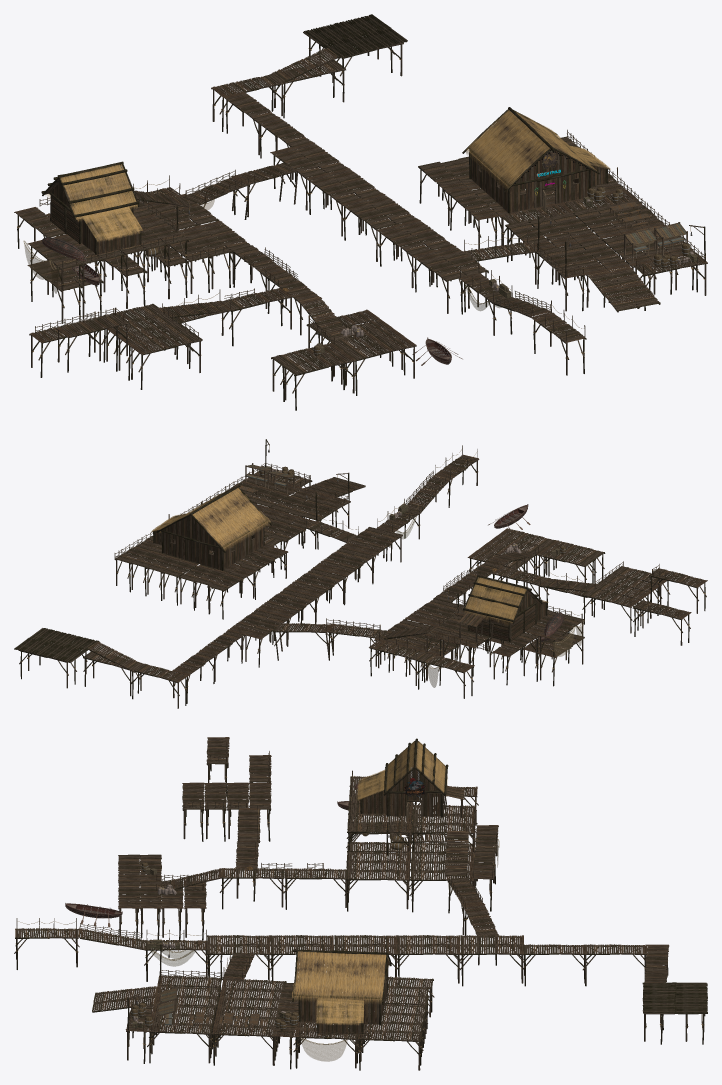
Rendered from village.glb.
3 views of the same model, one above another, from view 1: azimuth 30°, elevation 25°; view 2: azimuth 150°, elevation 25°; view 3: azimuth 270°, elevation 25° (orthographic). The views are drawn at different scales.
Parts seen in each view (by area): view 1: Village_MI_Wood_Kit.002, Village_MI_hay.002, Village_MI_Fence.002, Village_MI_hay_tile.002, Village_MI_boat.002, Village_MI_market_stand.002, Village_MI_net_Wind.002, Village_MI_Barrel.002, Village_MI_Rope_01.002, Village_MI_table_props.002; view 2: Village_MI_Wood_Kit.002, Village_MI_hay.002, Village_MI_Fence.002, Village_MI_hay_tile.002, Village_MI_net_Wind.002, Village_MI_boat.002, Village_MI_Rope_01.002, Village_MI_market_stand.002; view 3: Village_MI_Wood_Kit.002, Village_MI_hay.002, Village_MI_Fence.002, Village_MI_hay_tile.002, Village_MI_net_Wind.002, Village_MI_Barrel.002, Village_MI_boat.002, Village_MI_table_props.002, Village_MI_Rope_01.002, Village_MI_market_stand.002.
Part boxes in pixels (left/top/right/bottom): Village_MI_Wood_Kit.002: left=14, top=14, right=707, bottom=410; Village_MI_hay.002: left=47, top=111, right=610, bottom=241; Village_MI_Fence.002: left=35, top=129, right=705, bottom=344; Village_MI_hay_tile.002: left=61, top=110, right=584, bottom=219; Village_MI_boat.002: left=42, top=237, right=451, bottom=364; Village_MI_market_stand.002: left=624, top=222, right=687, bottom=261; Village_MI_net_Wind.002: left=23, top=199, right=654, bottom=310; Village_MI_Barrel.002: left=118, top=186, right=690, bottom=355; Village_MI_Rope_01.002: left=17, top=48, right=705, bottom=389; Village_MI_table_props.002: left=609, top=202, right=661, bottom=241; Village_MI_Wood_Kit.002: left=14, top=439, right=707, bottom=708; Village_MI_hay.002: left=151, top=492, right=548, bottom=625; Village_MI_Fence.002: left=114, top=463, right=678, bottom=663; Village_MI_hay_tile.002: left=179, top=488, right=525, bottom=622; Village_MI_net_Wind.002: left=396, top=516, right=584, bottom=687; Village_MI_boat.002: left=494, top=504, right=563, bottom=641; Village_MI_Rope_01.002: left=20, top=445, right=705, bottom=688; Village_MI_market_stand.002: left=245, top=463, right=294, bottom=493; Village_MI_Wood_Kit.002: left=14, top=737, right=707, bottom=1070; Village_MI_hay.002: left=292, top=741, right=447, bottom=1025; Village_MI_Fence.002: left=79, top=742, right=496, bottom=1041; Village_MI_hay_tile.002: left=295, top=742, right=444, bottom=999; Village_MI_net_Wind.002: left=150, top=776, right=499, bottom=1061; Village_MI_Barrel.002: left=131, top=821, right=404, bottom=1030; Village_MI_boat.002: left=65, top=781, right=390, bottom=918; Village_MI_table_props.002: left=188, top=1012, right=264, bottom=1030; Village_MI_Rope_01.002: left=15, top=756, right=704, bottom=1054; Village_MI_market_stand.002: left=158, top=987, right=176, bottom=1030.
Size of the model in its own units: 81.17 by 16.57 by 87.27.
28 materials, 23 textured.
